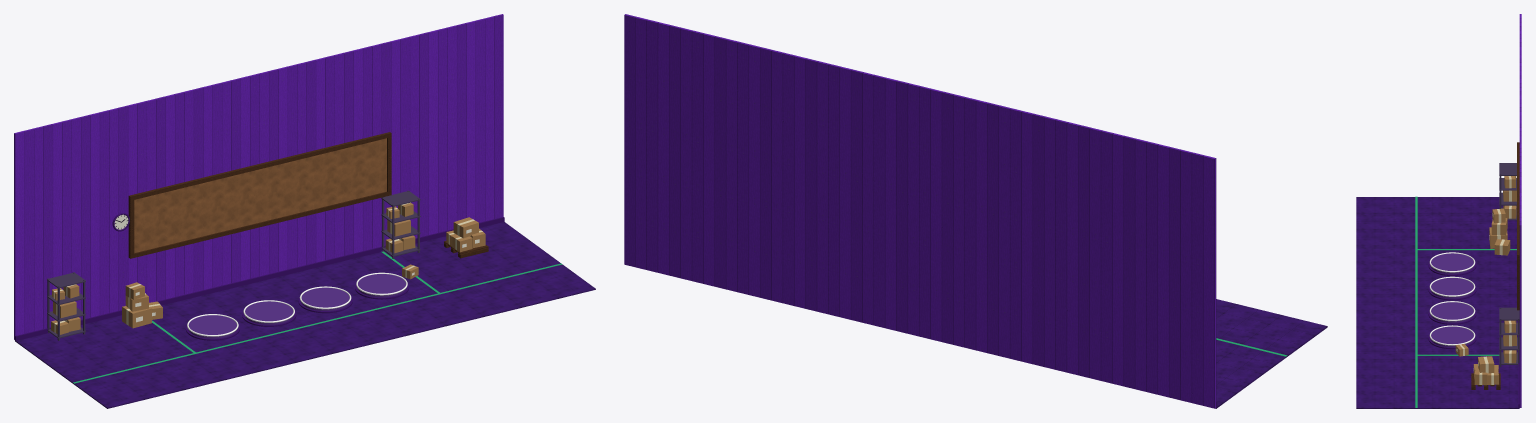
Rendered from Dispatch_Room.fbx.
The picture shows the model from 3 angles, left to right: view 1: azimuth 30°, elevation 25°; view 2: azimuth 150°, elevation 25°; view 3: azimuth 270°, elevation 25°; orthographic projection. The views are drawn at different scales.
Parts seen in each view (by area): view 1: Depot_Wall, Depot_Floor, Corkboard, Skirting, Corkboard_Frame_Top, Corkboard_Frame_Bottom, Floor_Stripe, Podium4, Podium1, Podium2, Podium3; view 2: Depot_Wall, Depot_Floor; view 3: Depot_Floor, Depot_Wall, Podium1, Podium2, Podium3, Podium4, Floor_Stripe, Corkboard_Frame_Top, Shelf_Board4, Parcel_Pallet5, Shelf_Far_Board4, Shelf_Posts (+8 smaller).
Boxes of the visible parts, <box> form: Depot_Wall: <box>14,14,503,339</box>; Depot_Floor: <box>15,222,595,408</box>; Corkboard: <box>134,138,386,252</box>; Skirting: <box>15,217,504,340</box>; Corkboard_Frame_Top: <box>128,132,391,200</box>; Corkboard_Frame_Bottom: <box>128,191,391,258</box>; Floor_Stripe: <box>73,263,562,383</box>; Podium4: <box>357,274,406,297</box>; Podium1: <box>188,315,237,338</box>; Podium2: <box>244,301,293,324</box>; Podium3: <box>300,287,350,310</box>; Depot_Wall: <box>624,14,1216,408</box>; Depot_Floor: <box>1215,299,1327,408</box>; Depot_Floor: <box>1356,197,1519,408</box>; Depot_Wall: <box>1519,14,1521,407</box>; Podium1: <box>1430,253,1474,274</box>; Podium2: <box>1430,278,1474,298</box>; Podium3: <box>1430,302,1474,322</box>; Podium4: <box>1430,326,1474,347</box>; Floor_Stripe: <box>1415,196,1417,407</box>; Corkboard_Frame_Top: <box>1517,142,1519,258</box>; Shelf_Board4: <box>1499,307,1519,320</box>; Parcel_Pallet5: <box>1478,356,1494,373</box>; Shelf_Far_Board4: <box>1499,163,1516,175</box>; Shelf_Posts: <box>1499,307,1519,366</box>.
Bounding box in the file's own units: 104 × 42.2 × 34.4.
18 materials, 4 textured.
